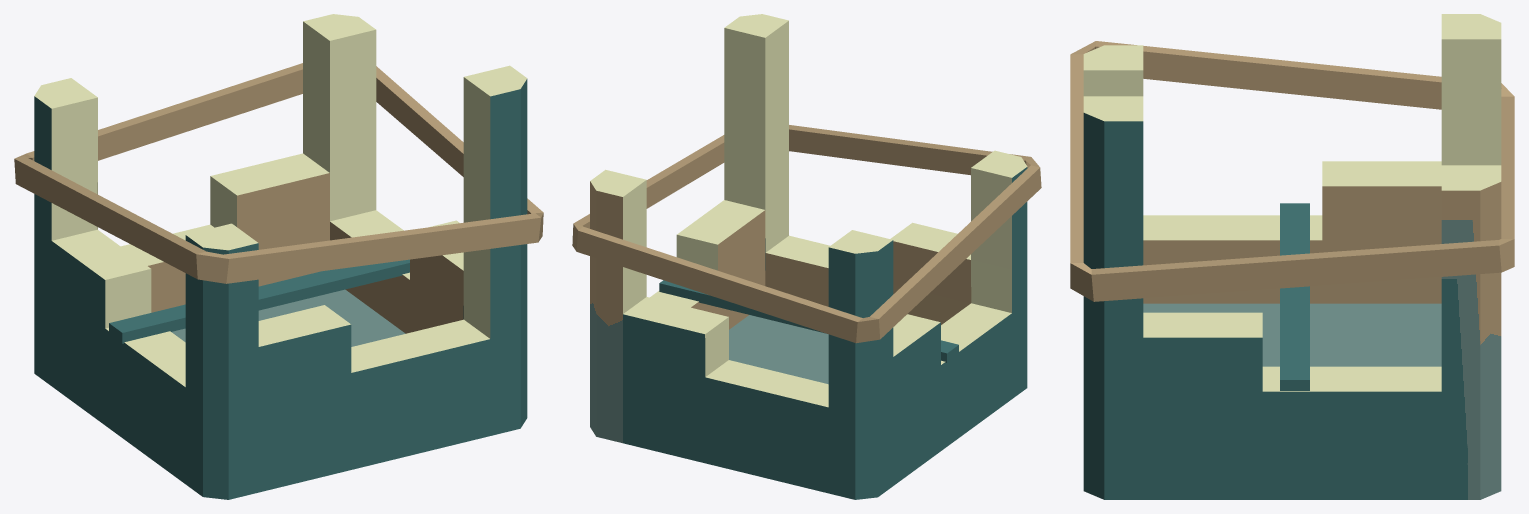
The model's file is ModuloBaseRoto.fbx.
The picture shows the model from 3 angles, left to right: view 1: azimuth 30°, elevation 25°; view 2: azimuth 150°, elevation 25°; view 3: azimuth 270°, elevation 25°; orthographic projection. The views are drawn at different scales.
Parts seen in each view (by area): view 1: Cube.128, Cube.132, Cube.129; view 2: Cube.128, Cube.132, Cube.129; view 3: Cube.128, Cube.132, Cube.129.
Part boxes in pixels (left/top/right/bottom): Cube.128: left=34, top=14, right=527, bottom=499; Cube.132: left=14, top=63, right=543, bottom=283; Cube.129: left=109, top=259, right=409, bottom=343; Cube.128: left=590, top=14, right=1027, bottom=499; Cube.132: left=572, top=125, right=1041, bottom=343; Cube.129: left=659, top=280, right=958, bottom=362; Cube.128: left=1083, top=14, right=1501, bottom=499; Cube.132: left=1070, top=41, right=1514, bottom=301; Cube.129: left=1280, top=203, right=1309, bottom=390.
Bounding box in the file's own units: 213 × 200 × 213.
